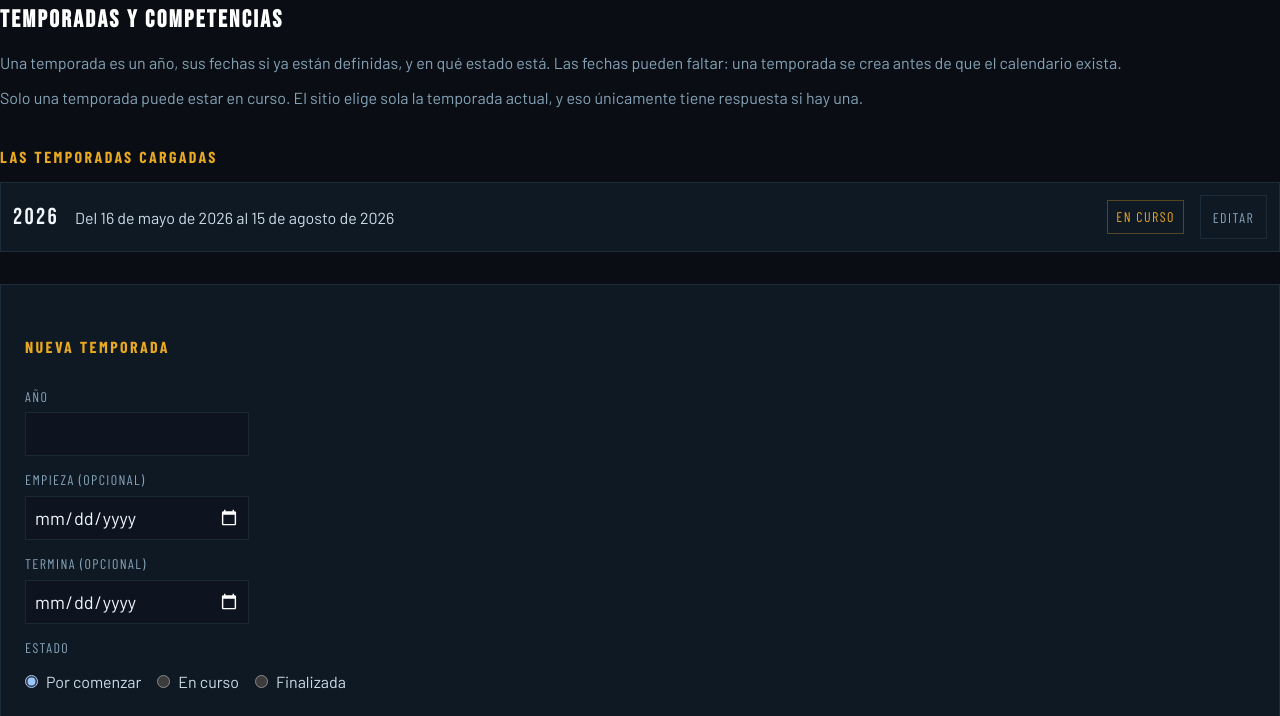
it: SeasonsScreen › lets an edit be abandoned
The image size is (1280, 716).
Click the button with aria-label "Editar la temporada 2026" at (1233, 217), box [1200, 195, 1267, 239]
(page scrolled)
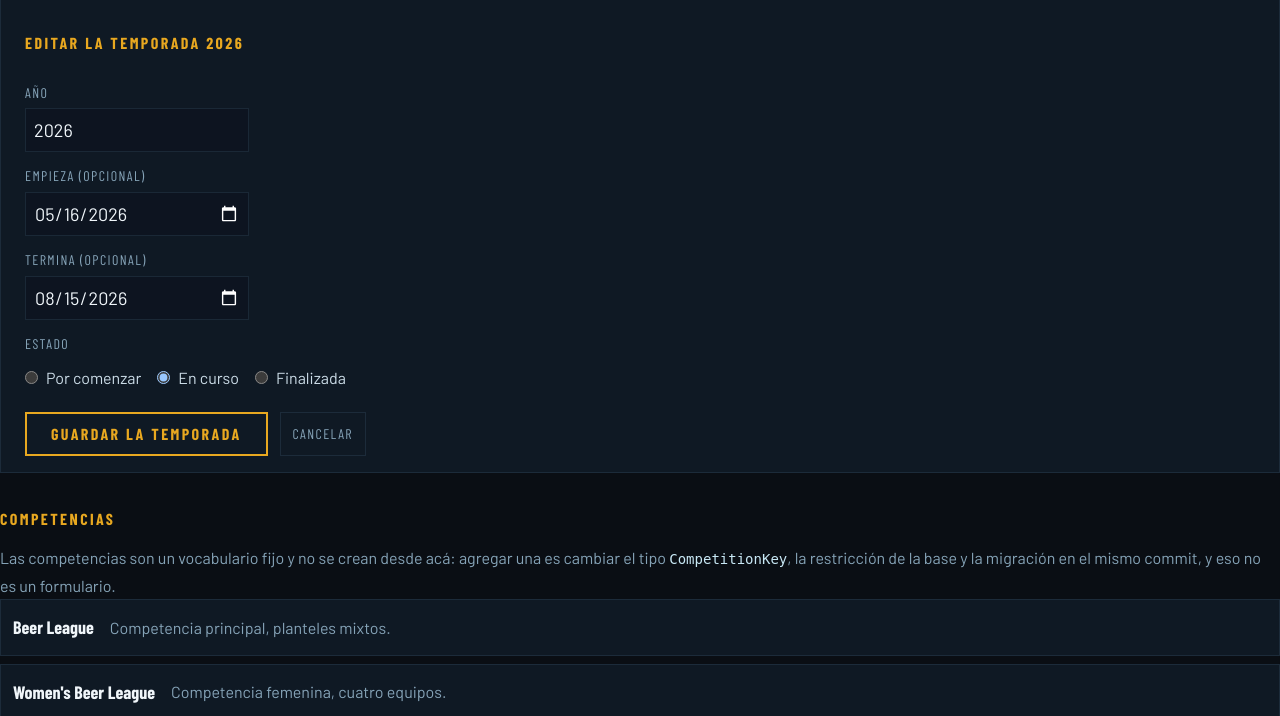
Click the button "Cancelar" at (323, 434), box [280, 412, 366, 456]
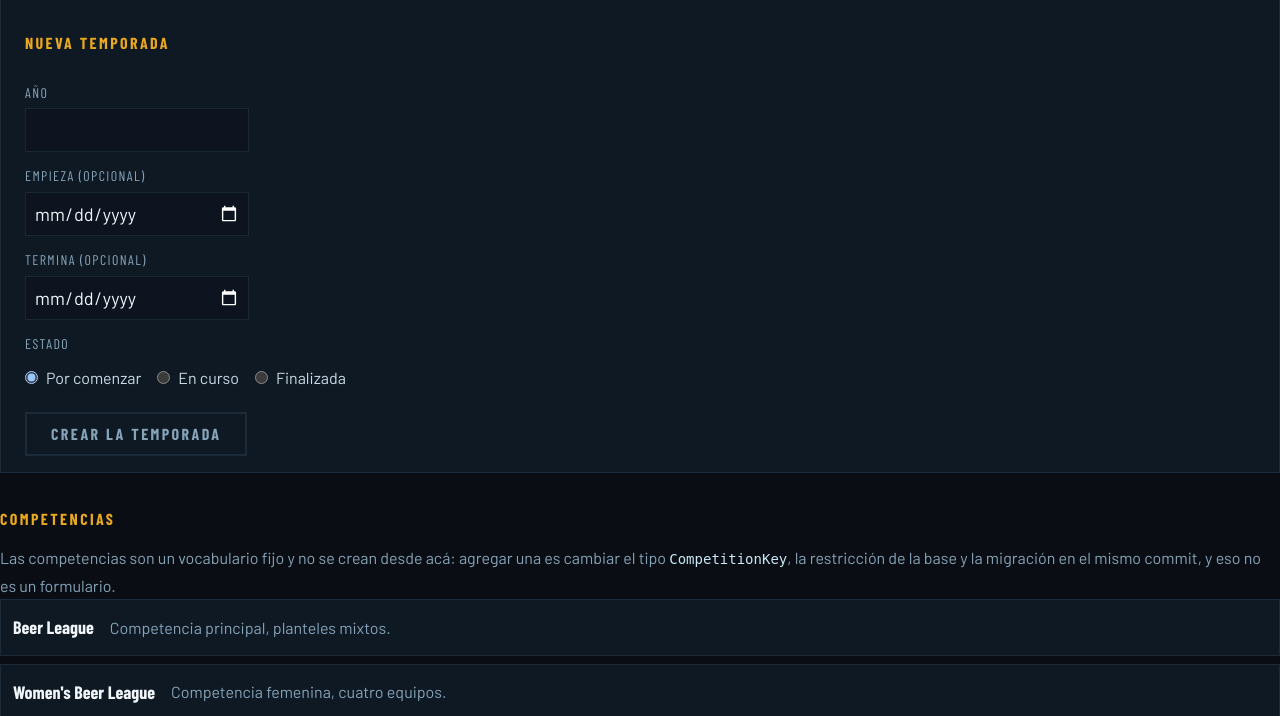
Expected: the number field labelled "Año" is not empty, [25, 108, 249, 152]
Result: the heading "Nueva temporada" is shown at [25, 29, 170, 57]
